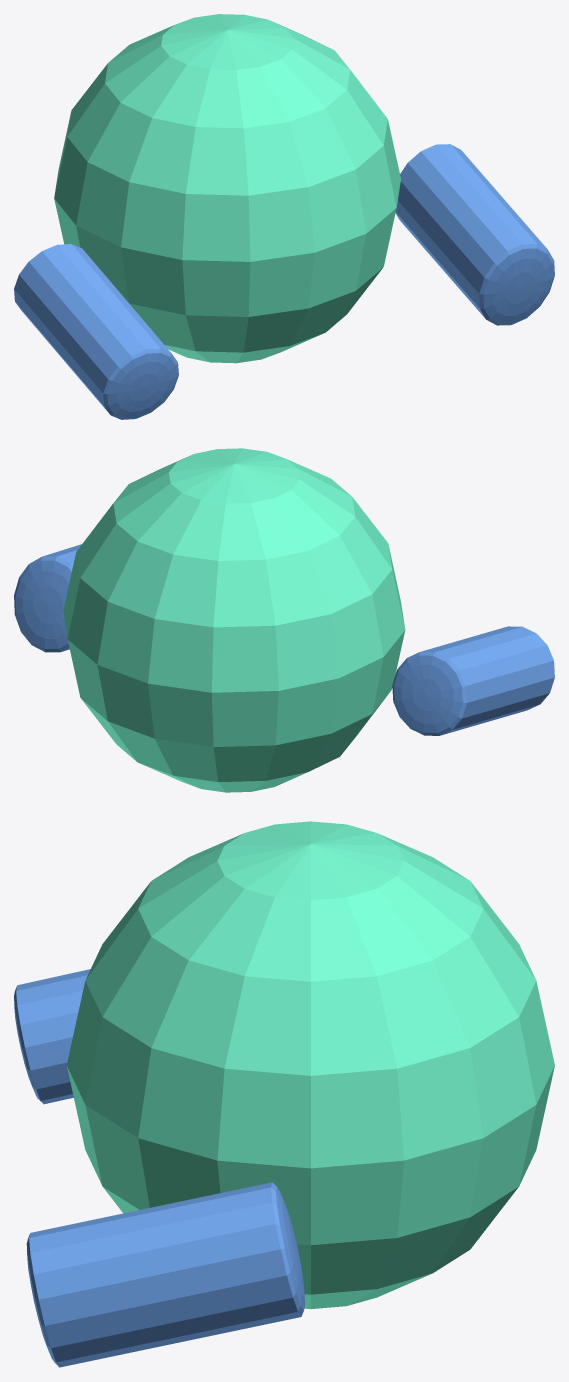
3 renders of one model, top to bottom at view 1: azimuth 30°, elevation 25°; view 2: azimuth 150°, elevation 25°; view 3: azimuth 270°, elevation 25°, orthographic. The views are drawn at different scales.
Visible parts, largest first — view 1: Sphere, Curved Surface_ncl1_3, Curved Surface_ncl1_5; view 2: Sphere, Curved Surface_ncl1_5, Curved Surface_ncl1_3; view 3: Sphere, Curved Surface_ncl1_3, Curved Surface_ncl1_5.
Part boxes in pixels (left/top/right/bottom): Sphere: left=54, top=14, right=400, bottom=363; Curved Surface_ncl1_3: left=395, top=144, right=554, bottom=325; Curved Surface_ncl1_5: left=14, top=244, right=178, bottom=419; Sphere: left=63, top=448, right=405, bottom=792; Curved Surface_ncl1_5: left=392, top=626, right=554, bottom=735; Curved Surface_ncl1_3: left=14, top=544, right=81, bottom=652; Sphere: left=66, top=821, right=554, bottom=1309; Curved Surface_ncl1_3: left=26, top=1182, right=304, bottom=1367; Curved Surface_ncl1_5: left=14, top=969, right=90, bottom=1104.
Size of the model in its own units: 241 by 160 by 177.
